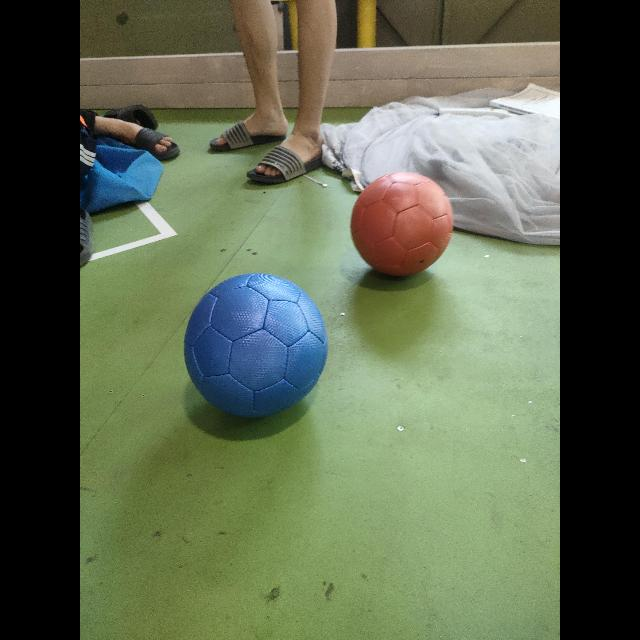B: (184, 274, 328, 418)
R: (351, 172, 454, 275)
